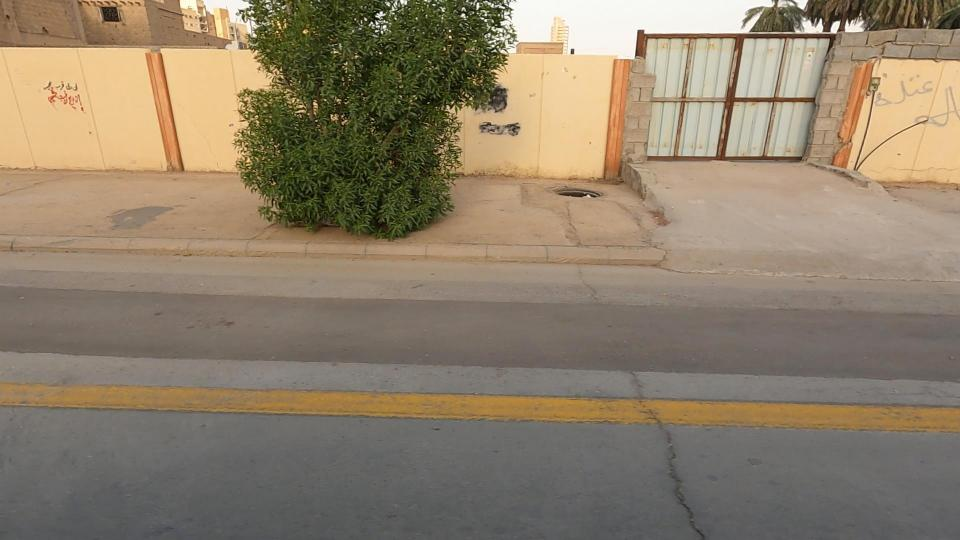GRAFFITI: (828, 44, 960, 153), (0, 60, 132, 138), (440, 93, 567, 164)
